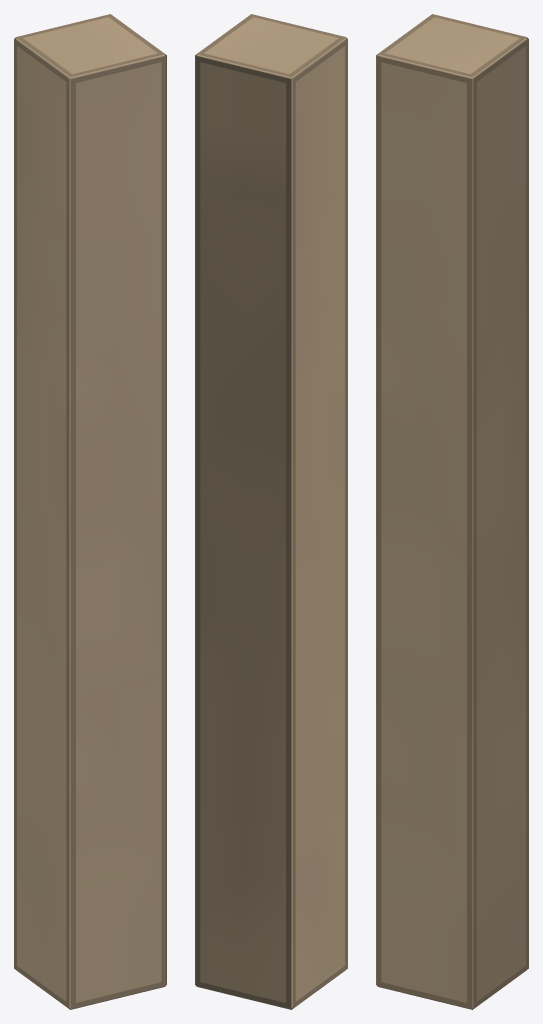
The model's file is key.glb.
The picture shows the model from 3 angles, left to right: view 1: azimuth 30°, elevation 25°; view 2: azimuth 150°, elevation 25°; view 3: azimuth 330°, elevation 25°; orthographic projection.
Parts seen in each view (by area): view 1: key; view 2: key; view 3: key.
Boxes of the visible parts, x1=… form: key: x1=14, y1=14, x2=166, y2=1009; key: x1=195, y1=14, x2=347, y2=1009; key: x1=376, y1=14, x2=528, y2=1009.
Bounding box in the file's own units: 0.0308 × 0.2808 × 0.0308.
